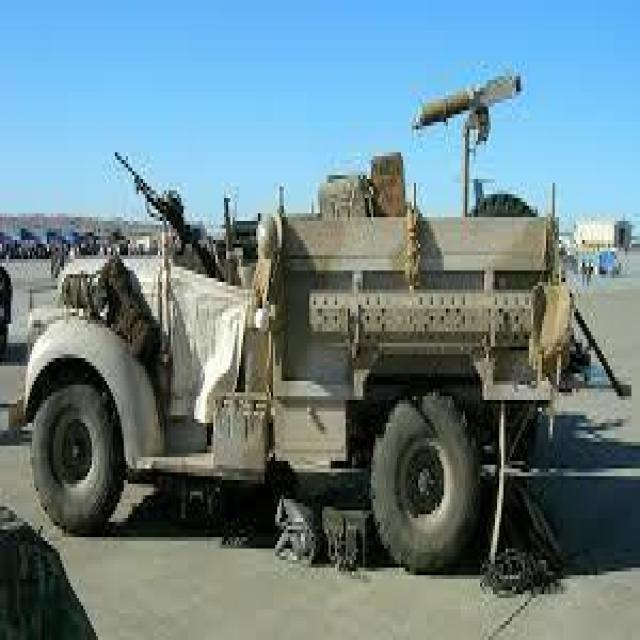MIL_MBT: (22, 112, 594, 554)
